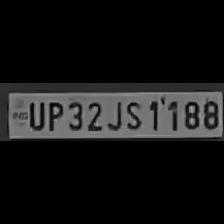1: (146, 98, 164, 132), (162, 97, 178, 131)
2: (84, 98, 103, 132)
3: (64, 98, 84, 132)
8: (180, 97, 200, 130), (200, 97, 220, 129)
J: (104, 97, 122, 130)
P: (44, 98, 64, 132)
S: (122, 98, 144, 132)
U: (25, 98, 43, 130)
